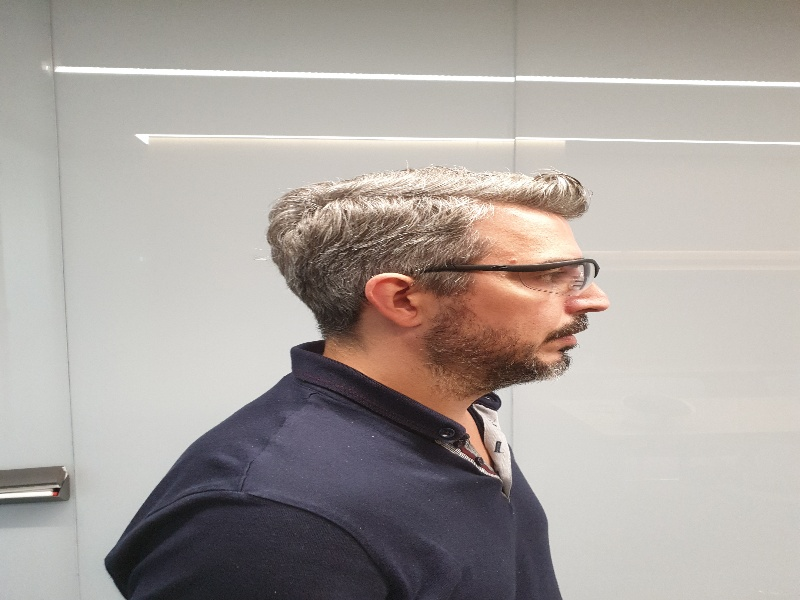Gozluk: (418, 257, 603, 296)
